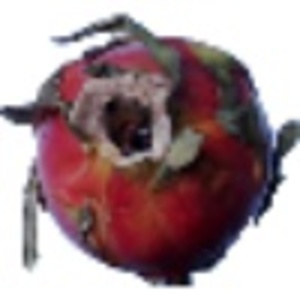pitaia: (1, 13, 300, 289)
